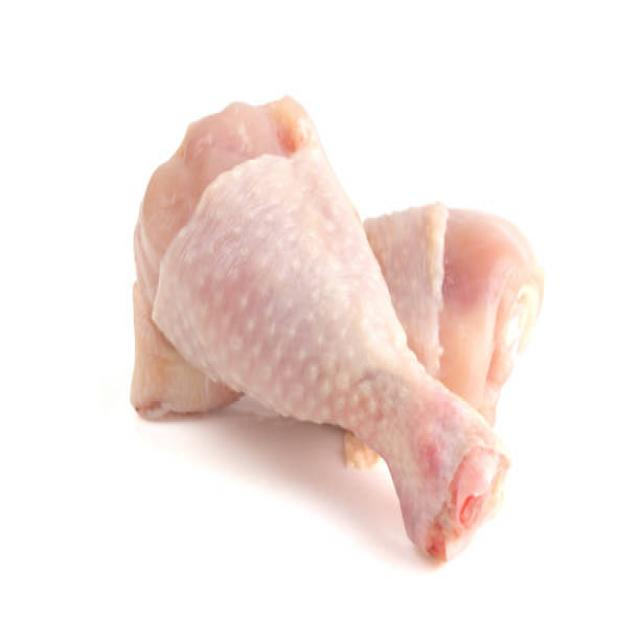Chicken: (139, 95, 515, 542)
